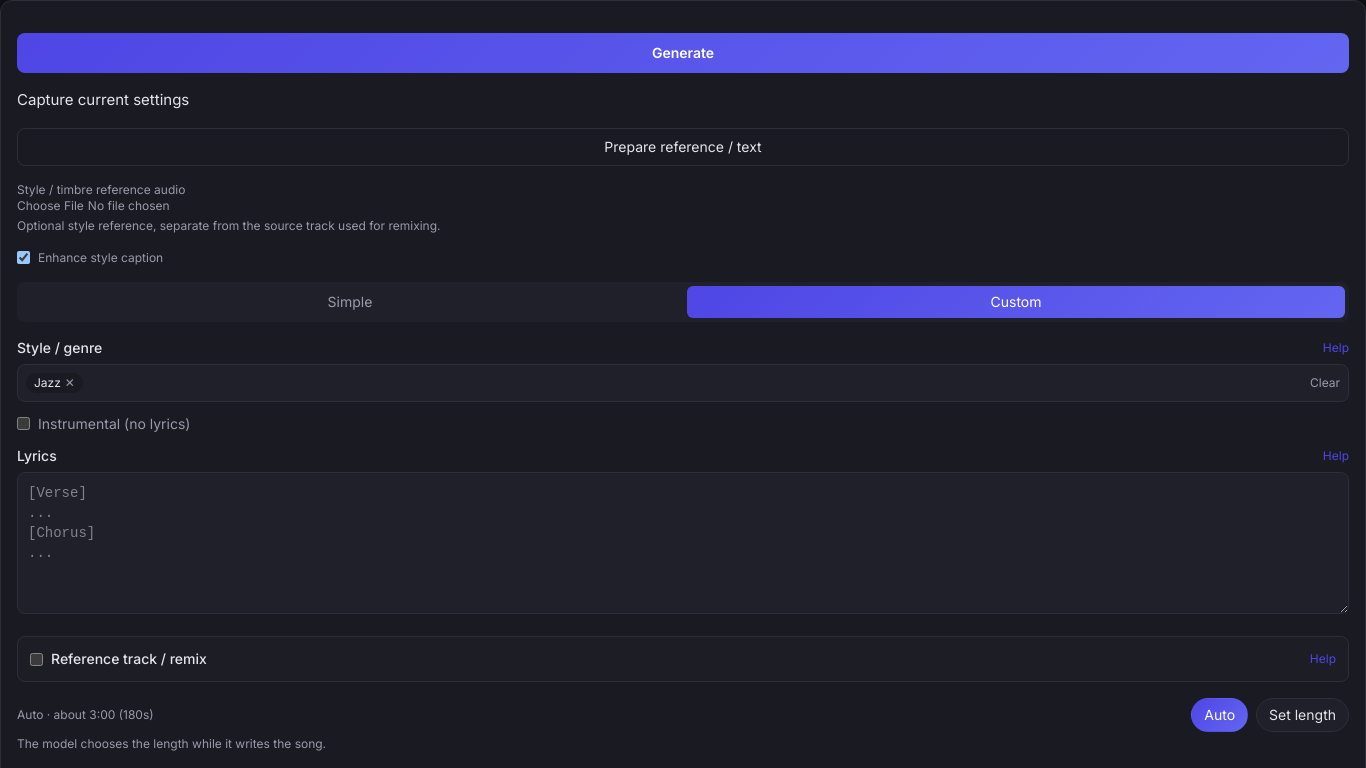
Test: shows a safe final server LoRA guard failure after the fresh status check succeeds
Click the button "Generate" at x=683, y=53, box [17,33,1349,73]
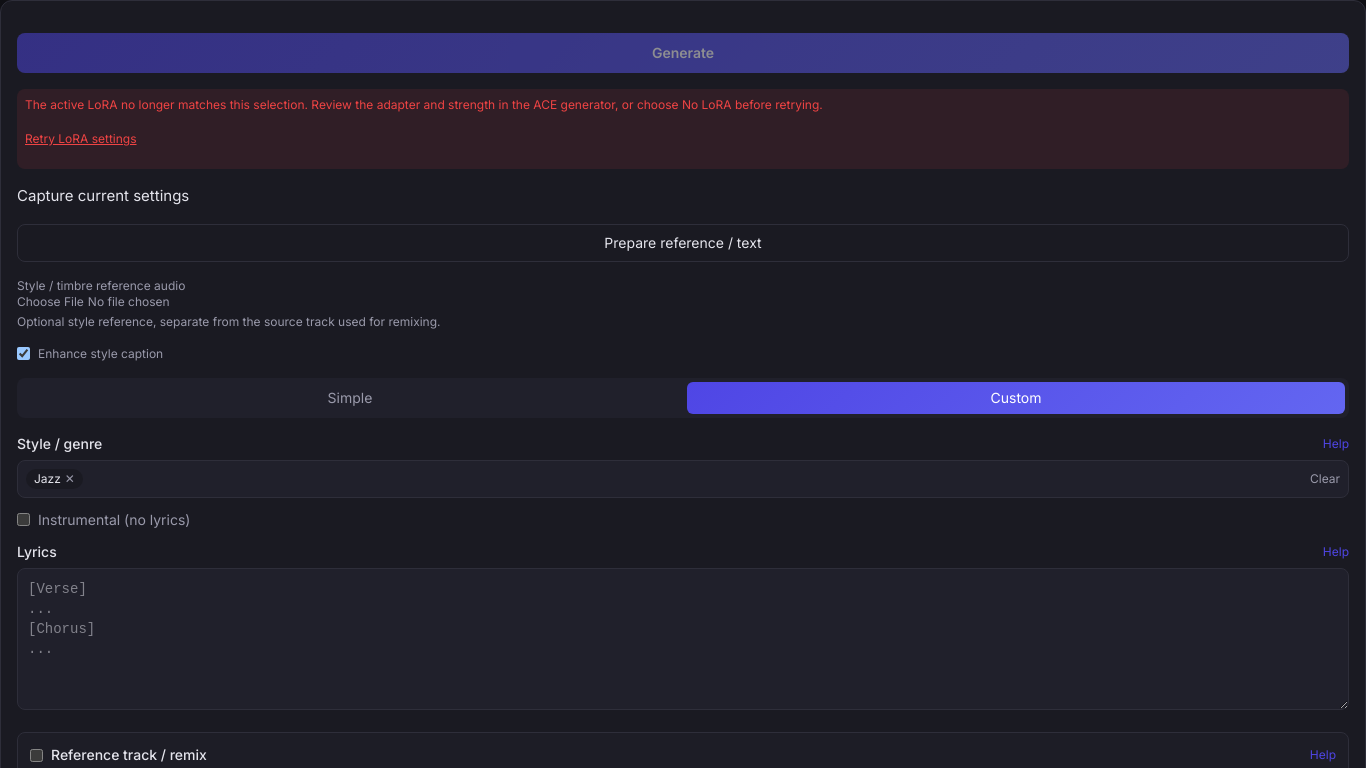
Check: the message shows "no longer matches this selection", box [25,97,823,112]
Check: the button "Generate" is disabled, box [17,33,1349,73]
Click the button "Retry LoRA settings" at x=81, y=139, box [25,117,136,161]
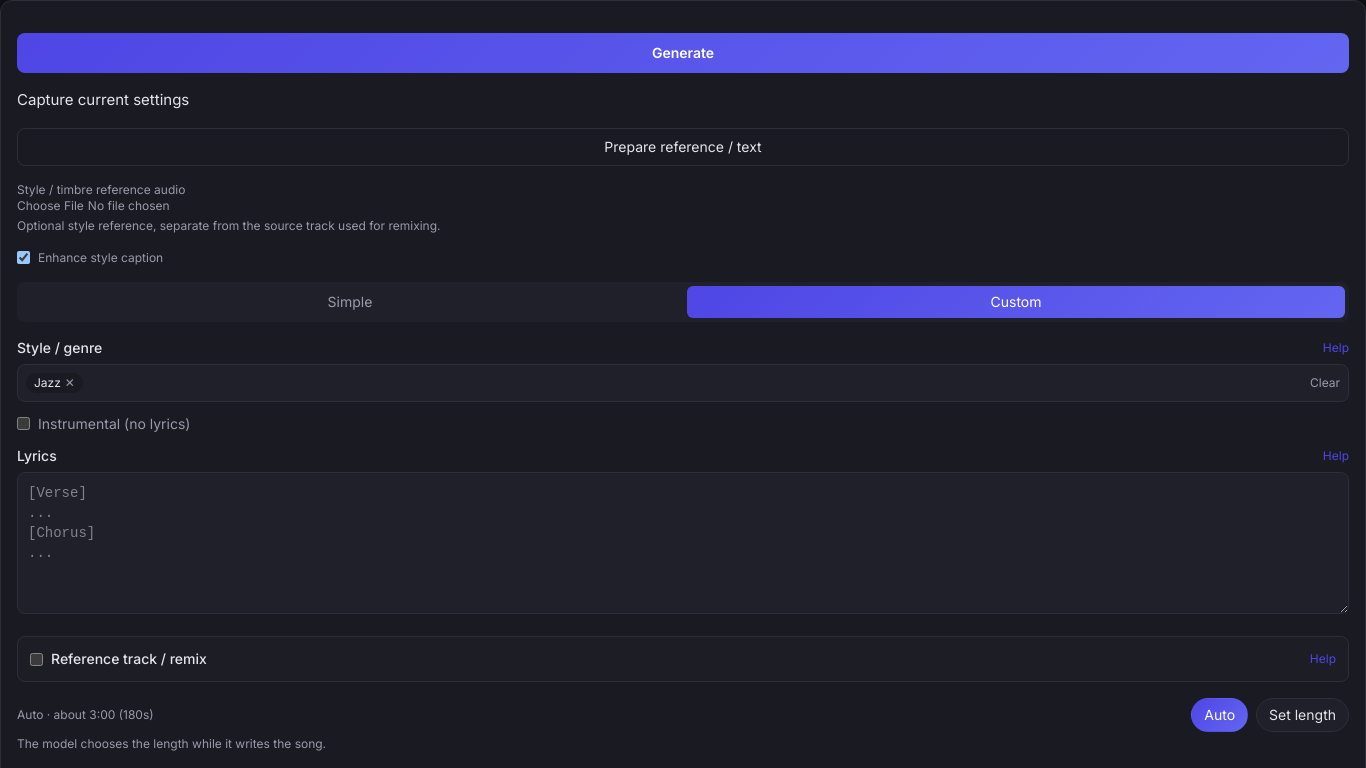
Check: the message is gone
Check: the button "Generate" is enabled, box [17,33,1349,73]
